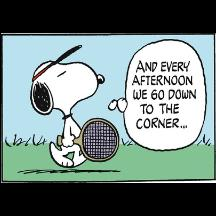snoopy: (29, 45, 119, 169)
